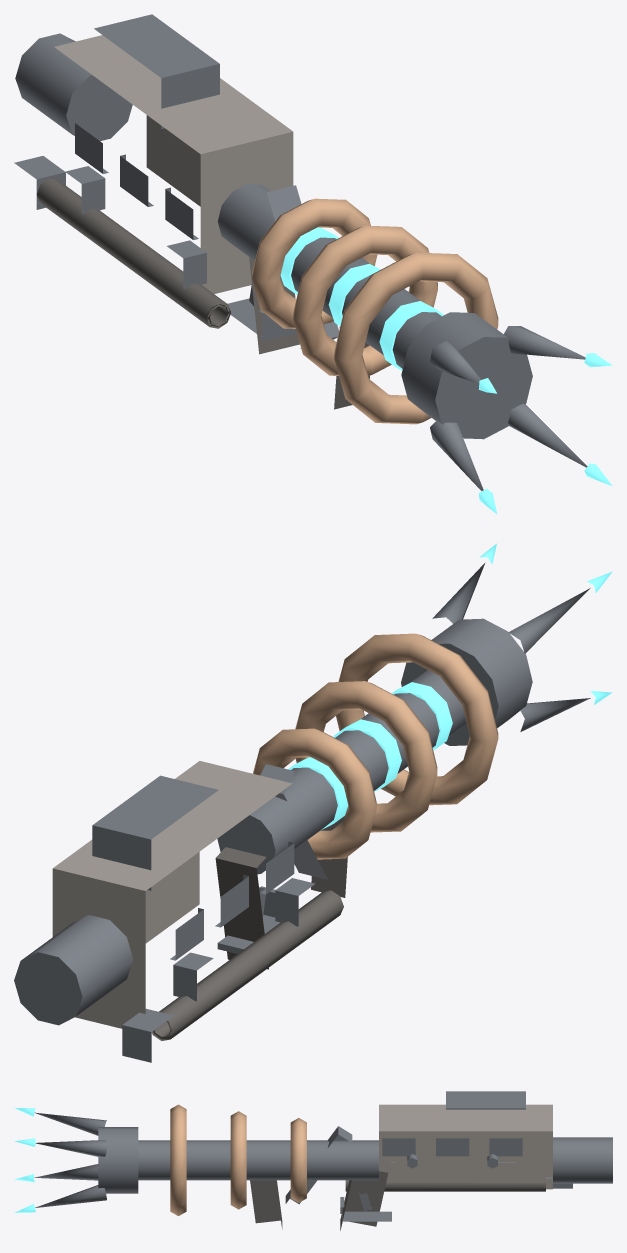
The model's file is SM_Weapon_ArcCannon.glb.
3 renders of one model, top to bottom at view 1: azimuth 30°, elevation 25°; view 2: azimuth 150°, elevation 25°; view 3: azimuth 270°, elevation 25°, orthographic. The views are drawn at different scales.
Parts seen in each view (by area): view 1: SM_Weapon_ArcCannon; view 2: SM_Weapon_ArcCannon; view 3: SM_Weapon_ArcCannon.
Boxes of the visible parts, left/top/right/bottom form: SM_Weapon_ArcCannon: left=14, top=14, right=612, bottom=514; SM_Weapon_ArcCannon: left=14, top=543, right=612, bottom=1062; SM_Weapon_ArcCannon: left=14, top=1091, right=612, bottom=1230.
Bounding box in the file's own units: 0.168 × 0.2194 × 0.8961.
